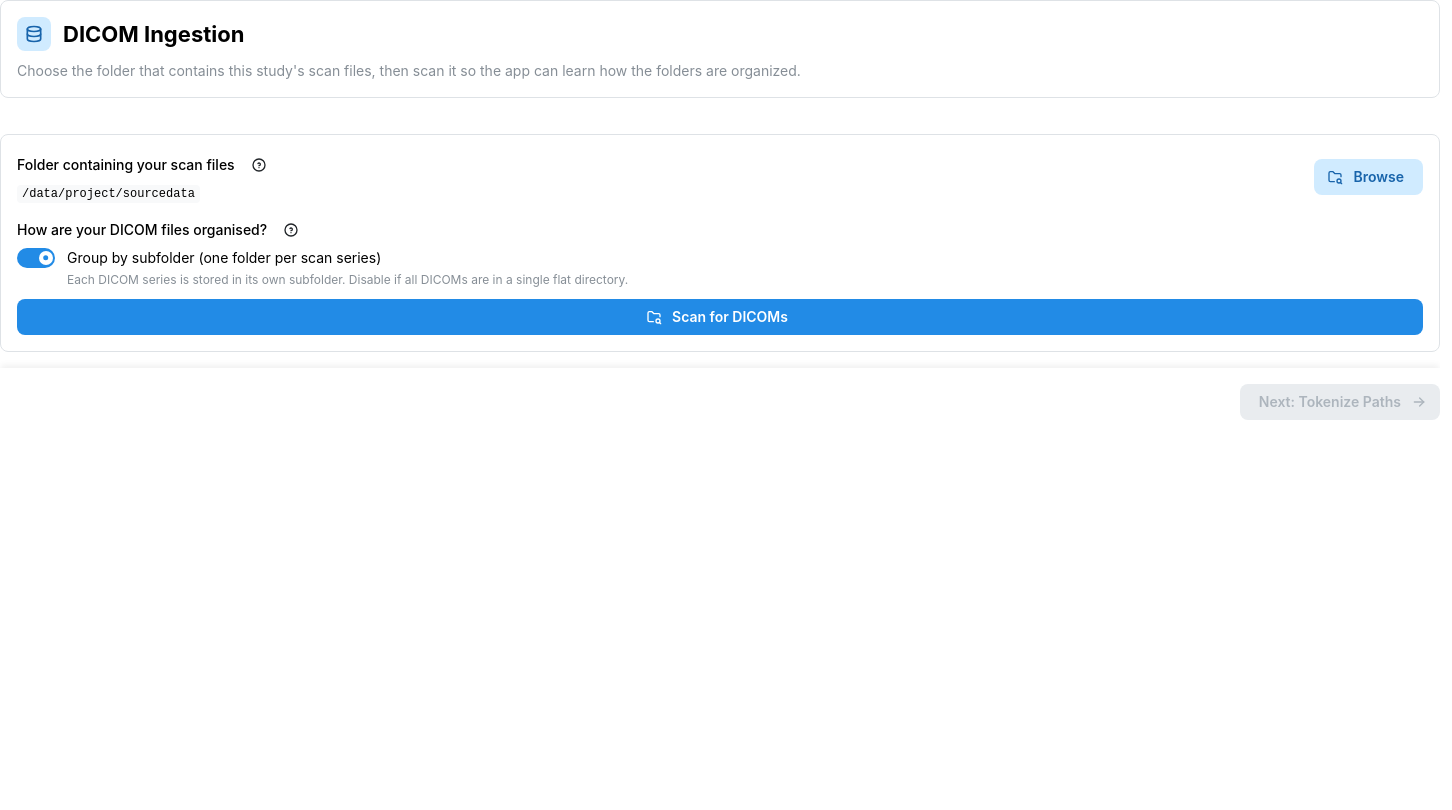
DicomIngestion › displays results after successful scan
What coordinates should you click on to do the following:
click the button with test id "scan-dicoms-btn"
I would click on:
 (720, 318)
Its box is [17, 300, 1423, 336].
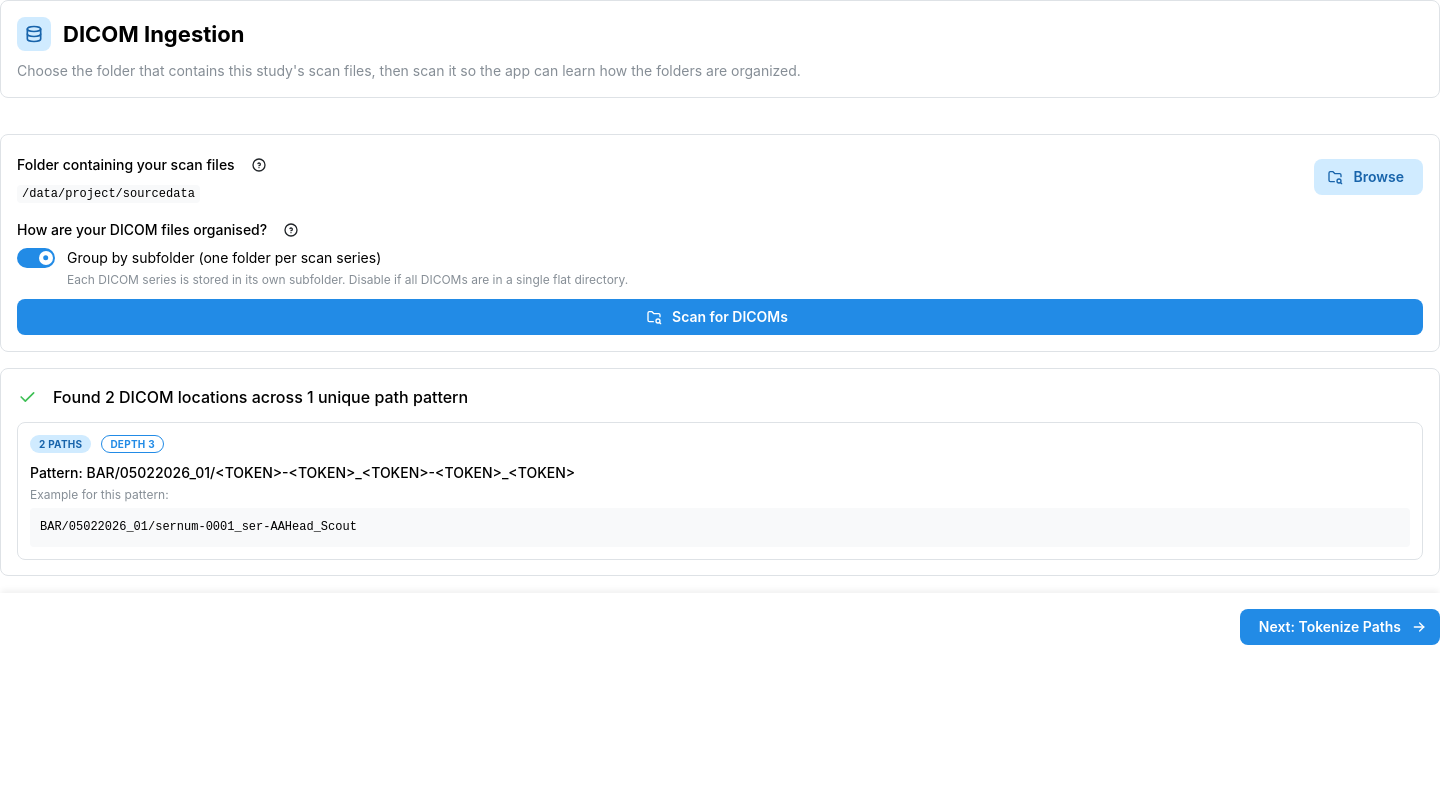
Check: the text "Found 2 DICOM locations across 1 unique path pattern" is shown, box [53, 386, 468, 410]
Check: the text "Example for this pattern:" is shown, box [30, 488, 169, 503]
